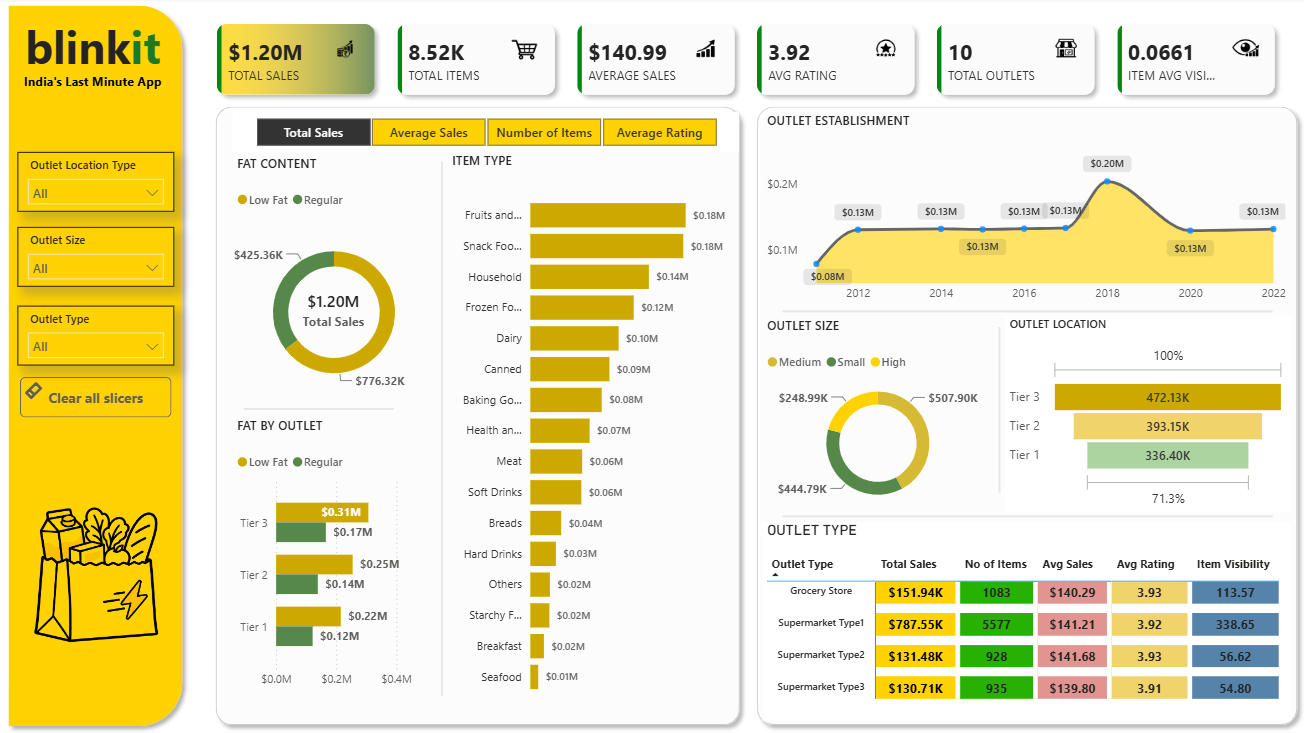

What the dashboard file says about the page in this screenshot:
{"tool":"powerbi","page":{"name":"Page 1","canvas":[1400,800],"ordinal":0},"visuals":[{"type":"shape","box":[0,0,204.5,790.9],"z":0},{"type":"textbox","box":[12.1,14.8,175,78.1],"z":1000},{"type":"textbox","box":[14.8,76.7,169.6,32.3],"z":2000},{"type":"cardVisual","fields":{"Data":["BlinkIT Grocery Data.Total Sales","BlinkIT Grocery Data.Total Items","BlinkIT Grocery Data.Average Sales","BlinkIT Grocery Data.Average Rating","BlinkIT Grocery Data.Total Outlets","BlinkIT Grocery Data.Item Avg Visibility"]},"box":[203.8,0,1195.7,134],"z":3000},{"type":"shape","box":[222.1,108.3,579.6,681.2],"z":4000},{"type":"donutChart","title":"FAT CONTENT","fields":{"Y":["BlinkIT Grocery Data.Total Sales"],"Category":["BlinkIT Grocery Data.Item Fat Content"]},"box":[249.2,169.3,218,281.7],"z":5000},{"type":"slicer","fields":{"Values":["Metrics.Metrics"]},"box":[249.2,123.2,543,43.3],"z":6000},{"type":"cardVisual","fields":{"Data":["BlinkIT Grocery Data.Total Sales"]},"box":[293.9,297.9,128.7,75.8],"z":7000},{"type":"clusteredBarChart","title":"FAT BY OUTLET","fields":{"Y":["BlinkIT Grocery Data.Total Sales"],"Category":["BlinkIT Grocery Data.Outlet Location Type"],"Series":["BlinkIT Grocery Data.Item Fat Content"]},"box":[249.2,451,218,299.3],"z":8000},{"type":"barChart","title":"ITEM TYPE","fields":{"Y":["BlinkIT Grocery Data.Total Sales"],"Category":["BlinkIT Grocery Data.Item Type"]},"box":[479.4,166.6,303.3,594.5],"z":9000},{"type":"shape","box":[261.4,434.7,161.2,14.9],"z":10000},{"type":"shape","box":[467.2,177.4,12.2,572.8],"z":11000},{"type":"shape","box":[803.1,108.3,597.2,681.2],"z":12000},{"type":"lineChart","title":"OUTLET ESTABLISHMENT","fields":{"Category":["BlinkIT Grocery Data.Outlet Establishment Year"],"Y":["BlinkIT Grocery Data.Total Sales"]},"box":[818,123.2,566.1,212.6],"z":13000},{"type":"donutChart","title":"OUTLET SIZE","fields":{"Y":["BlinkIT Grocery Data.Total Sales"],"Category":["BlinkIT Grocery Data.Outlet Size"]},"box":[818,342.6,247.8,214],"z":14000},{"type":"shape","box":[839.6,330.4,525.4,12.2],"z":15000},{"type":"shape","box":[1065.8,353.5,12.2,177.4],"z":16000},{"type":"funnel","title":"OUTLET LOCATION","fields":{"Y":["Sum(BlinkIT Grocery Data.Sales)"],"Category":["BlinkIT Grocery Data.Outlet Location Type"]},"box":[1078,341.3,306.1,209.9],"z":17000},{"type":"shape","box":[839.6,551.2,525.4,12.2],"z":18000},{"type":"pivotTable","title":"OUTLET TYPE","fields":{"Rows":["BlinkIT Grocery Data.Outlet Type"],"Values":["BlinkIT Grocery Data.Total Sales","BlinkIT Grocery Data.Number of Items","BlinkIT Grocery Data.Average Sales","BlinkIT Grocery Data.Average Rating","Sum(BlinkIT Grocery Data.Item Visibility)"]},"box":[818,563.4,566.1,212.6],"z":19000},{"type":"slicer","fields":{"Values":["BlinkIT Grocery Data.Outlet Type"]},"box":[19,330.4,167.9,63.6],"z":20000},{"type":"slicer","fields":{"Values":["BlinkIT Grocery Data.Outlet Size"]},"box":[19,246.5,167.9,63.6],"z":21000},{"type":"slicer","fields":{"Values":["BlinkIT Grocery Data.Outlet Location Type"]},"box":[19,166.6,167.9,63.6],"z":22000},{"type":"actionButton","box":[21.7,407.6,162.5,43.3],"z":23000},{"type":"image","box":[16.3,451,170.6,325],"z":24000}]}

Visuals, with their boxes in screenshot pixels (x1, y1, x2, y2), scaled from the page's 1400x800 canvas onto the 1304x733 screenshot:
shape: [x1=0, y1=0, x2=190, y2=725]
textbox: [x1=11, y1=14, x2=174, y2=85]
textbox: [x1=14, y1=70, x2=172, y2=100]
cardVisual - BlinkIT Grocery Data.Total Sales x BlinkIT Grocery Data.Total Items: [x1=190, y1=0, x2=1303, y2=123]
shape: [x1=207, y1=99, x2=747, y2=723]
"FAT CONTENT" donutChart: [x1=232, y1=155, x2=435, y2=413]
slicer - Metrics.Metrics: [x1=232, y1=113, x2=738, y2=153]
cardVisual - BlinkIT Grocery Data.Total Sales: [x1=274, y1=273, x2=394, y2=342]
"FAT BY OUTLET" clusteredBarChart: [x1=232, y1=413, x2=435, y2=687]
"ITEM TYPE" barChart: [x1=447, y1=153, x2=729, y2=697]
shape: [x1=243, y1=398, x2=394, y2=412]
shape: [x1=435, y1=163, x2=447, y2=687]
shape: [x1=748, y1=99, x2=1303, y2=723]
"OUTLET ESTABLISHMENT" lineChart: [x1=762, y1=113, x2=1289, y2=308]
"OUTLET SIZE" donutChart: [x1=762, y1=314, x2=993, y2=510]
shape: [x1=782, y1=303, x2=1271, y2=314]
shape: [x1=993, y1=324, x2=1004, y2=486]
"OUTLET LOCATION" funnel: [x1=1004, y1=313, x2=1289, y2=505]
shape: [x1=782, y1=505, x2=1271, y2=516]
"OUTLET TYPE" pivotTable: [x1=762, y1=516, x2=1289, y2=711]
slicer - BlinkIT Grocery Data.Outlet Type: [x1=18, y1=303, x2=174, y2=361]
slicer - BlinkIT Grocery Data.Outlet Size: [x1=18, y1=226, x2=174, y2=284]
slicer - BlinkIT Grocery Data.Outlet Location Type: [x1=18, y1=153, x2=174, y2=211]
actionButton: [x1=20, y1=373, x2=172, y2=413]
image: [x1=15, y1=413, x2=174, y2=711]
